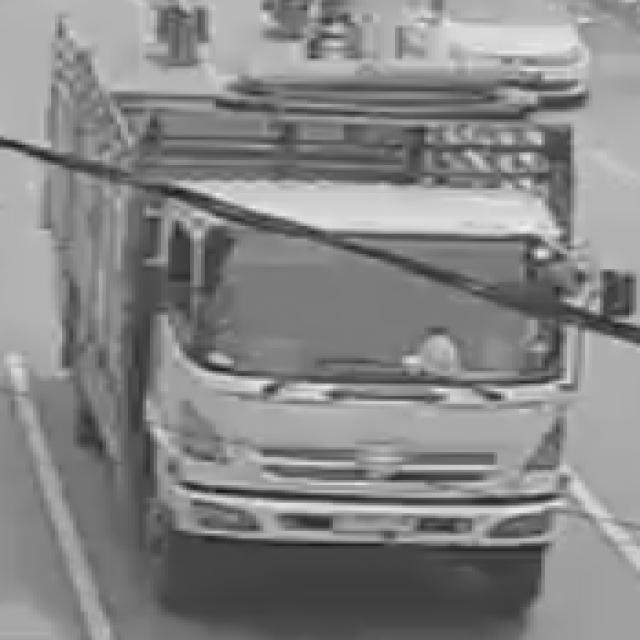Truck: (18, 5, 610, 631)
